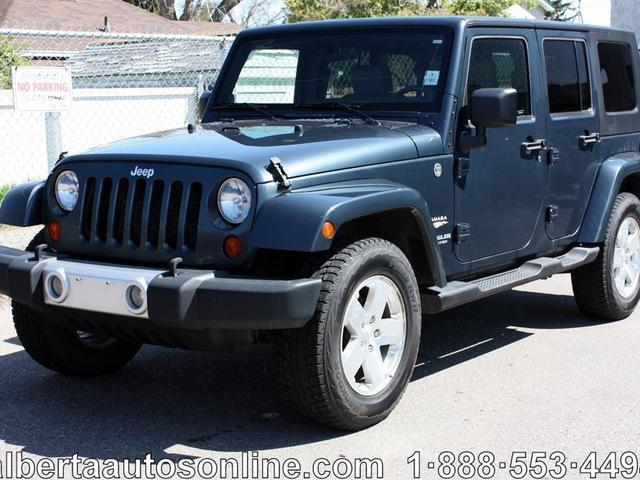jeep: (116, 150, 168, 191)
